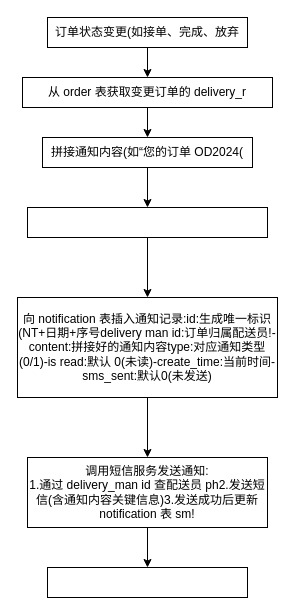
The diagram is 295 pixels wide and 615 high, and some of its shapes have lost their labels. Here are the shapes that lost their labels. From the top down, the box of each, then its label:
(26, 206, 268, 238): 确定通知类型(ORDER STATUS/ADMII
(46, 566, 248, 598): 结束(通知记录已存储，短信已发送)
